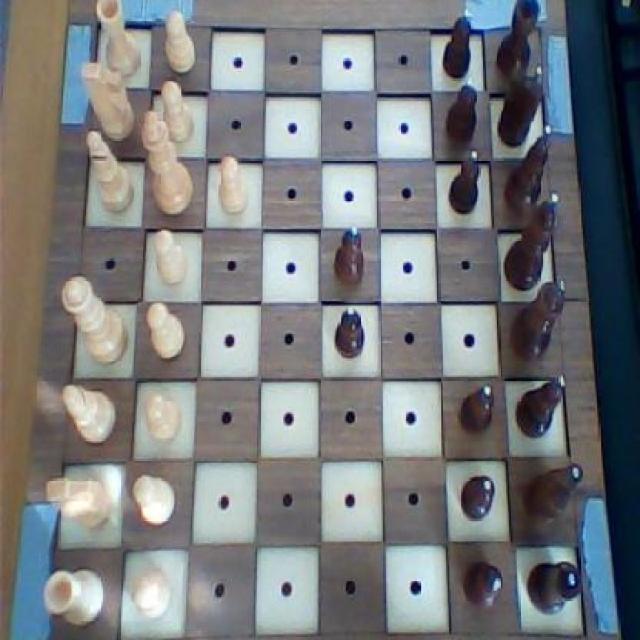bishop: (500, 124, 557, 226), (514, 372, 571, 448)
black-bishop: (503, 186, 565, 292)
black-king: (518, 458, 584, 528), (494, 62, 544, 149)
black-knight: (445, 145, 487, 219), (454, 378, 498, 442), (462, 554, 509, 613), (441, 6, 477, 82), (443, 78, 480, 151), (329, 220, 368, 289), (457, 468, 500, 526), (331, 304, 368, 364)
black-pawn: (506, 272, 571, 364)
black-queen: (491, 0, 543, 83), (523, 552, 588, 618)
black-rook: (81, 125, 140, 219), (57, 379, 120, 453)
white-bishop: (138, 110, 198, 222)
white-king: (78, 58, 140, 144), (42, 471, 114, 538)
white-knight: (152, 76, 200, 146), (126, 469, 179, 531), (125, 566, 176, 627), (211, 151, 256, 220), (142, 300, 186, 365), (160, 5, 198, 76), (140, 389, 185, 448), (151, 224, 189, 288)
white-pawn: (58, 272, 132, 368)
white-queen: (38, 565, 108, 630), (92, 0, 146, 82)
